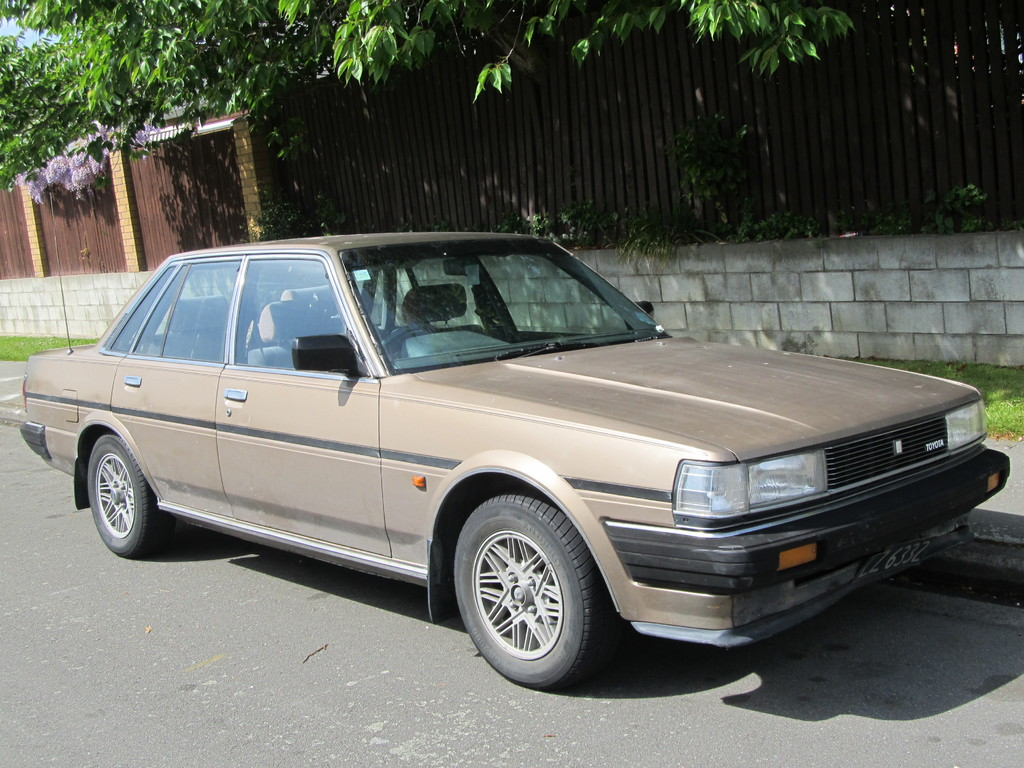Car: (23, 229, 1011, 687)
